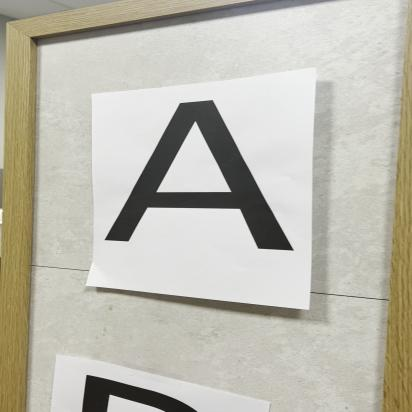seat: (101, 89, 310, 269)
